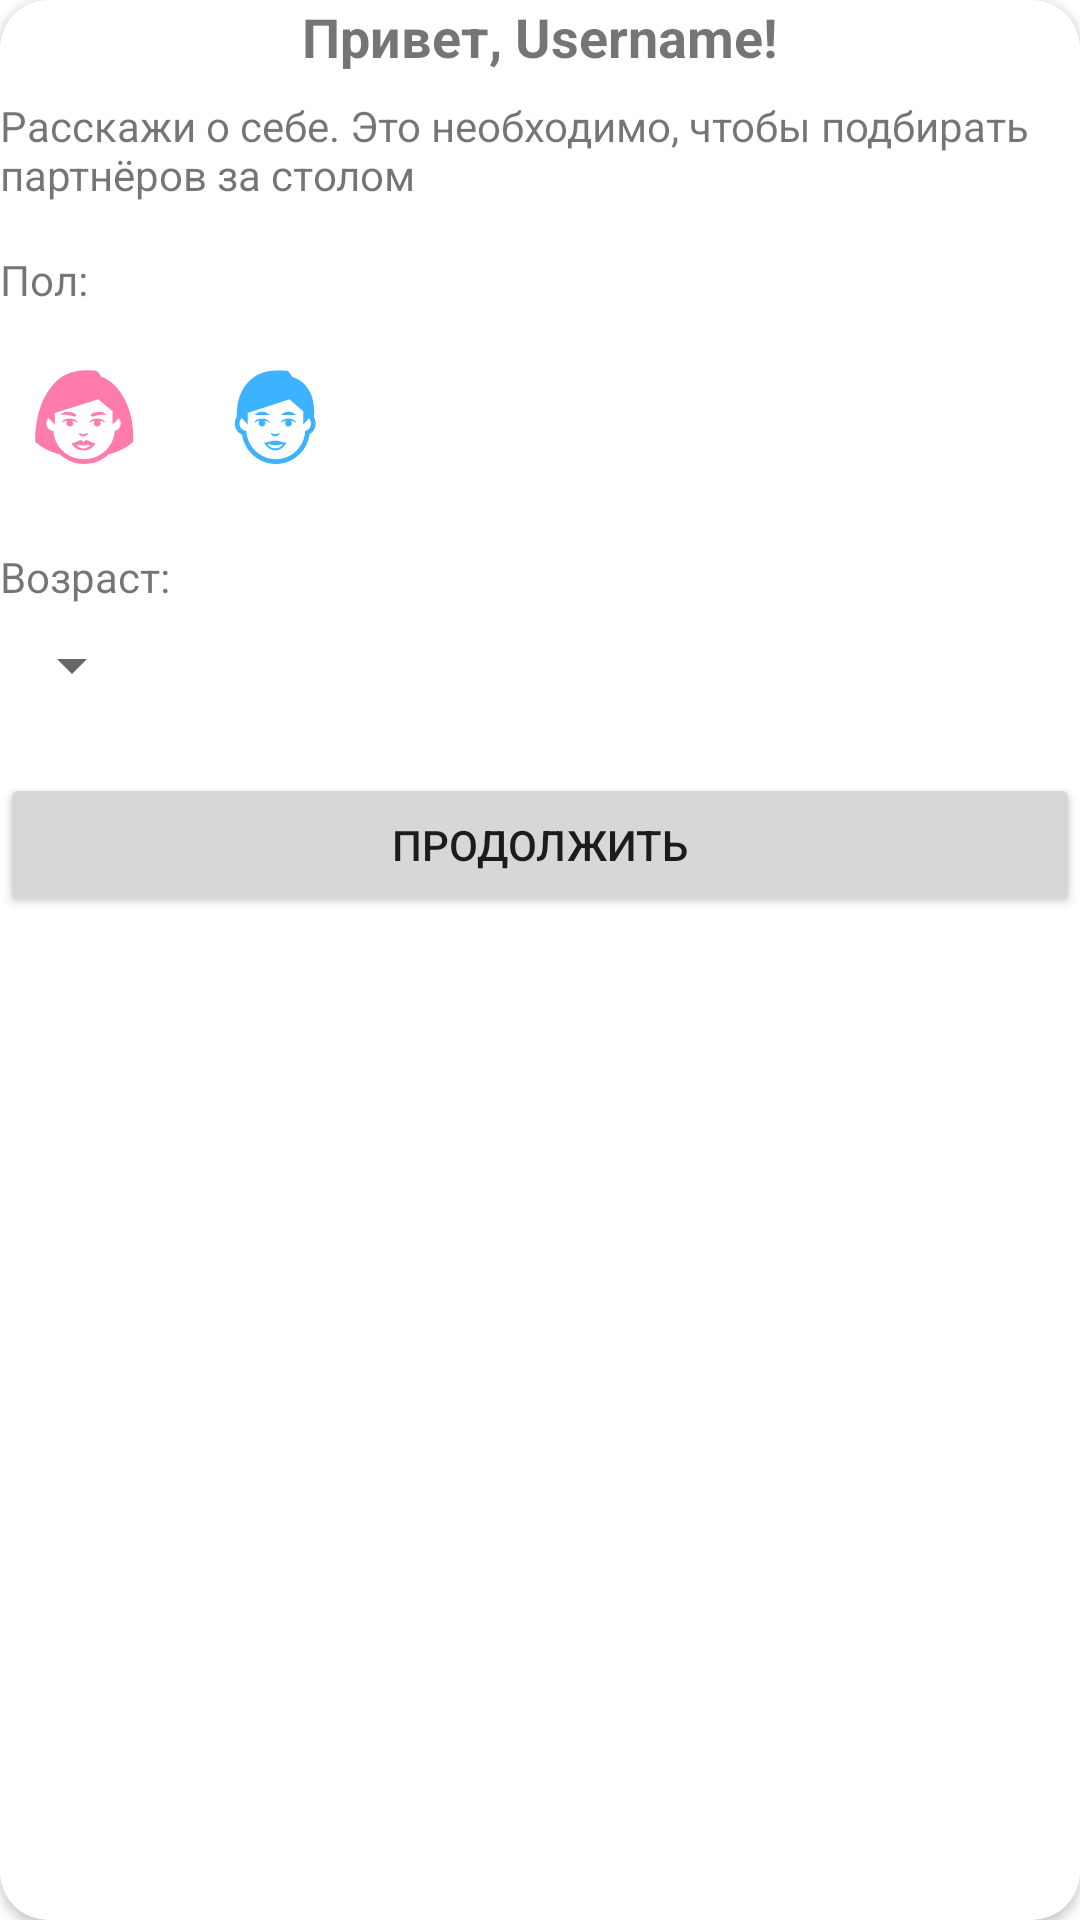

Screen size 1080 x 1920. Icon name, then its box in pixels as bbox(x1, y1, x2, y2):
female: bbox(35, 370, 134, 464)
male: bbox(235, 370, 316, 464)
